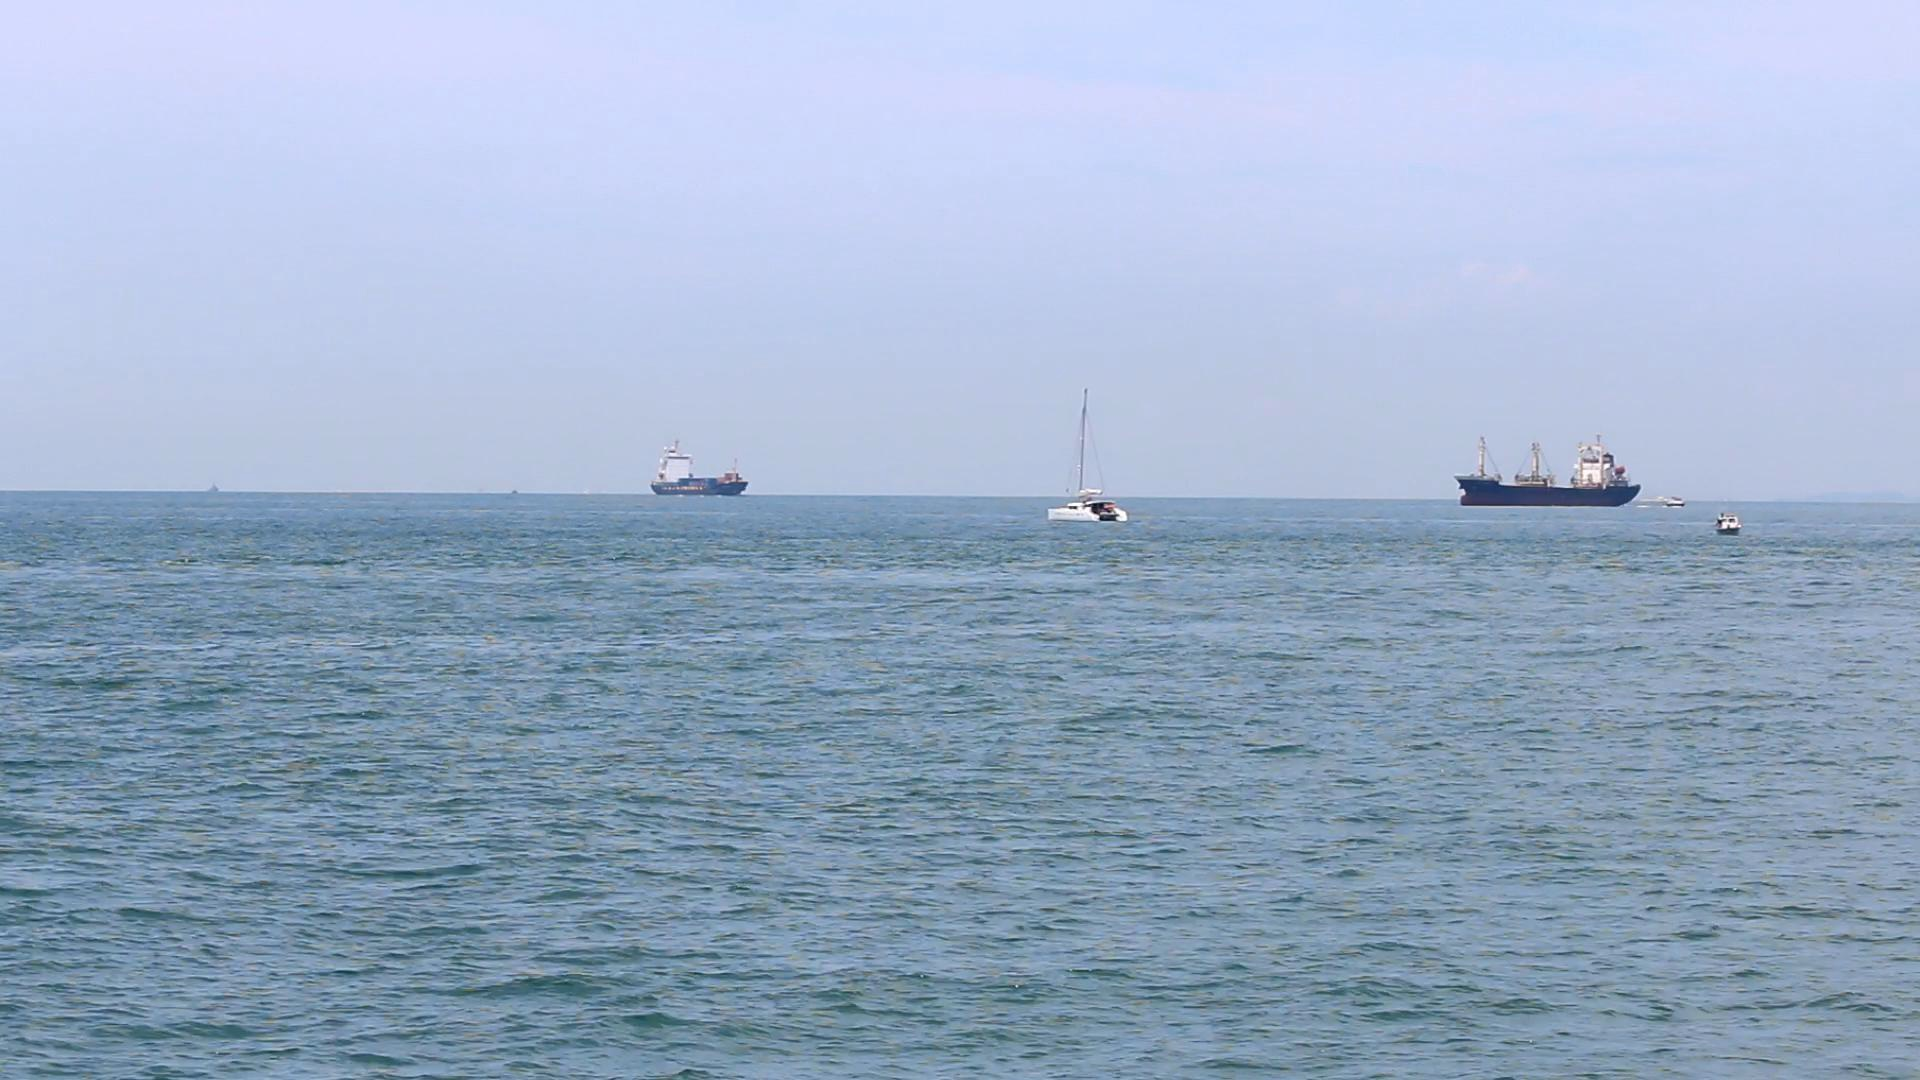Container Ship: (1453, 435, 1643, 509), (649, 438, 752, 500)
